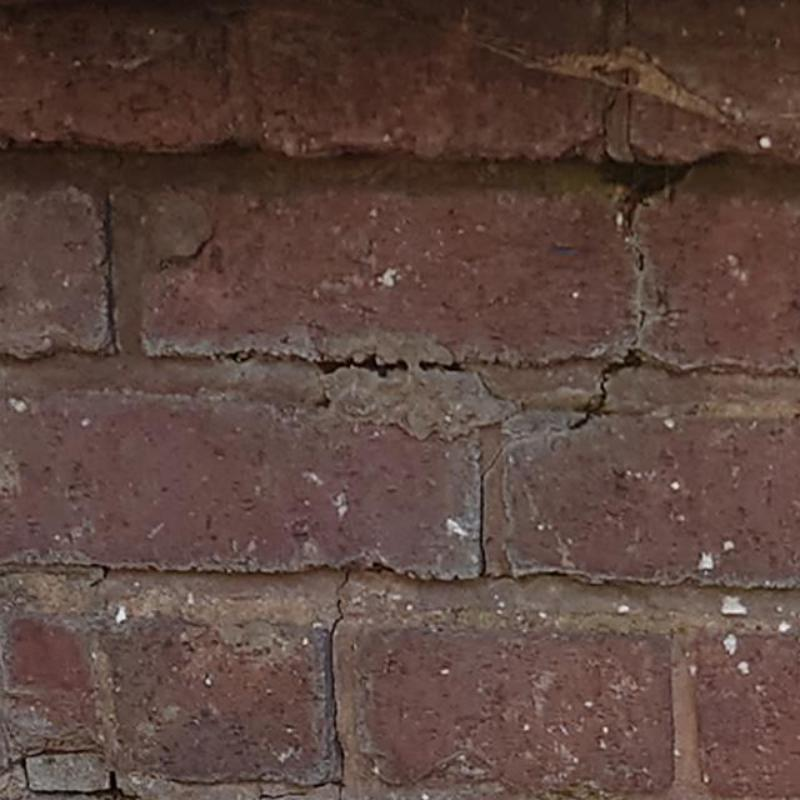pothole: (598, 90, 695, 272), (20, 748, 142, 799), (569, 350, 642, 430), (478, 438, 515, 580), (329, 568, 351, 799), (314, 352, 410, 378), (256, 780, 339, 799), (630, 310, 646, 345), (418, 360, 465, 371)
